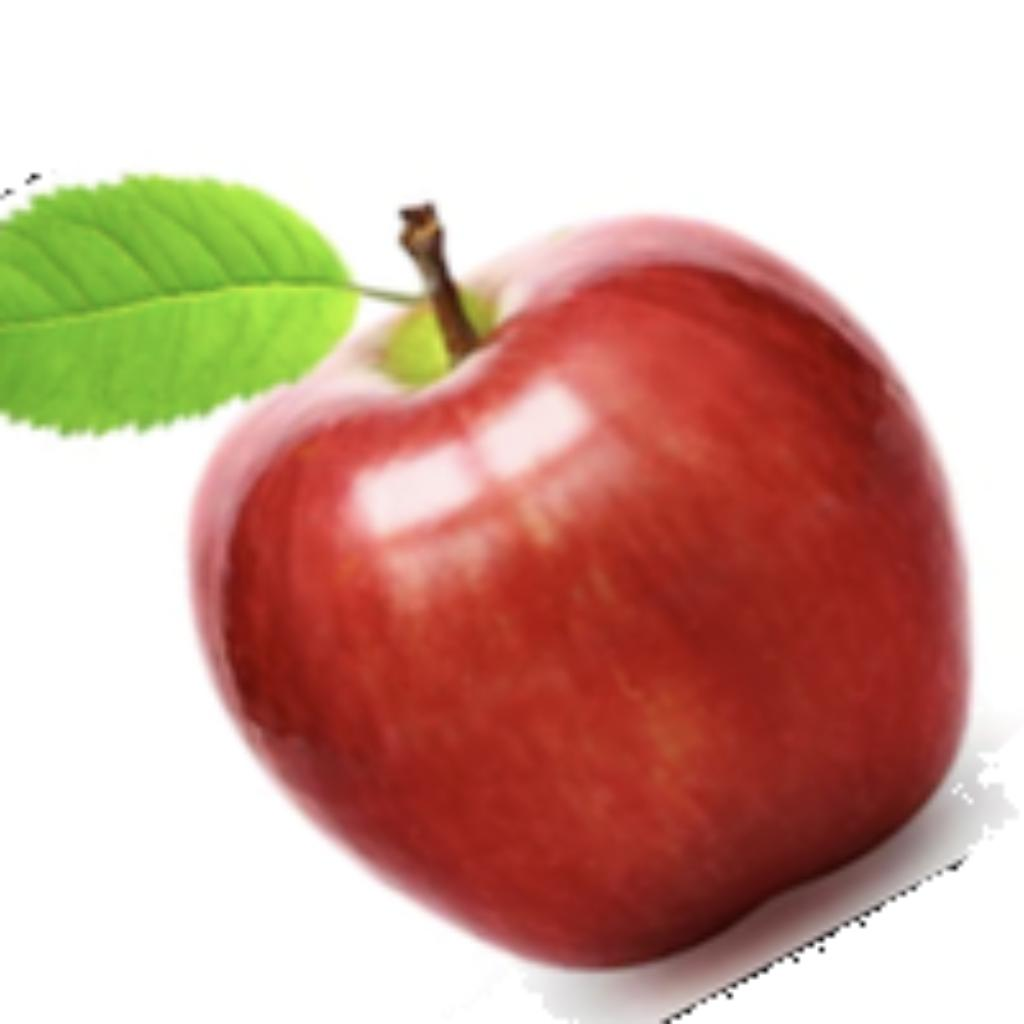apple: (0, 164, 1019, 1019)
